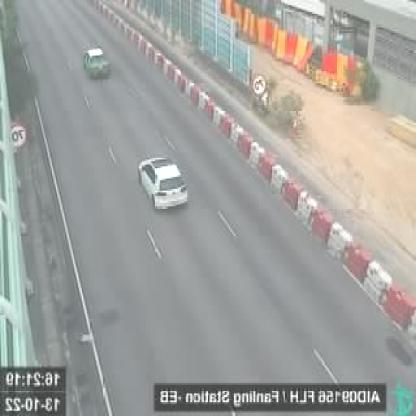Car: (138, 153, 189, 210), (83, 44, 112, 78)
